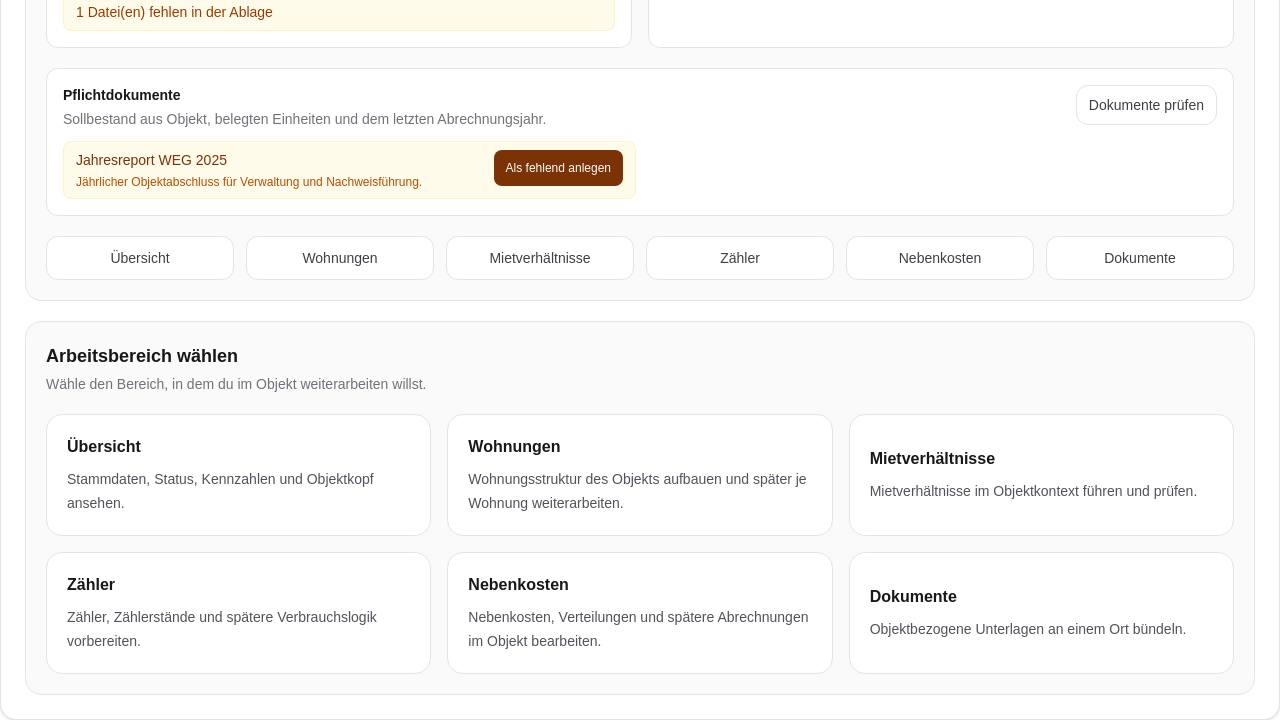
Test: ObjectDetail › links each apartment directly into its unit-specific document stock
(page scrolled)
What coordinates should you click on to do the following:
click the button named "Wohnungen Wohnungsstruktur des Objekts aufbauen und später je Wohnung weiterarbeiten."
I would click on:
 (640, 475)
Its box is left=447, top=414, right=833, bottom=536.
(page scrolled)
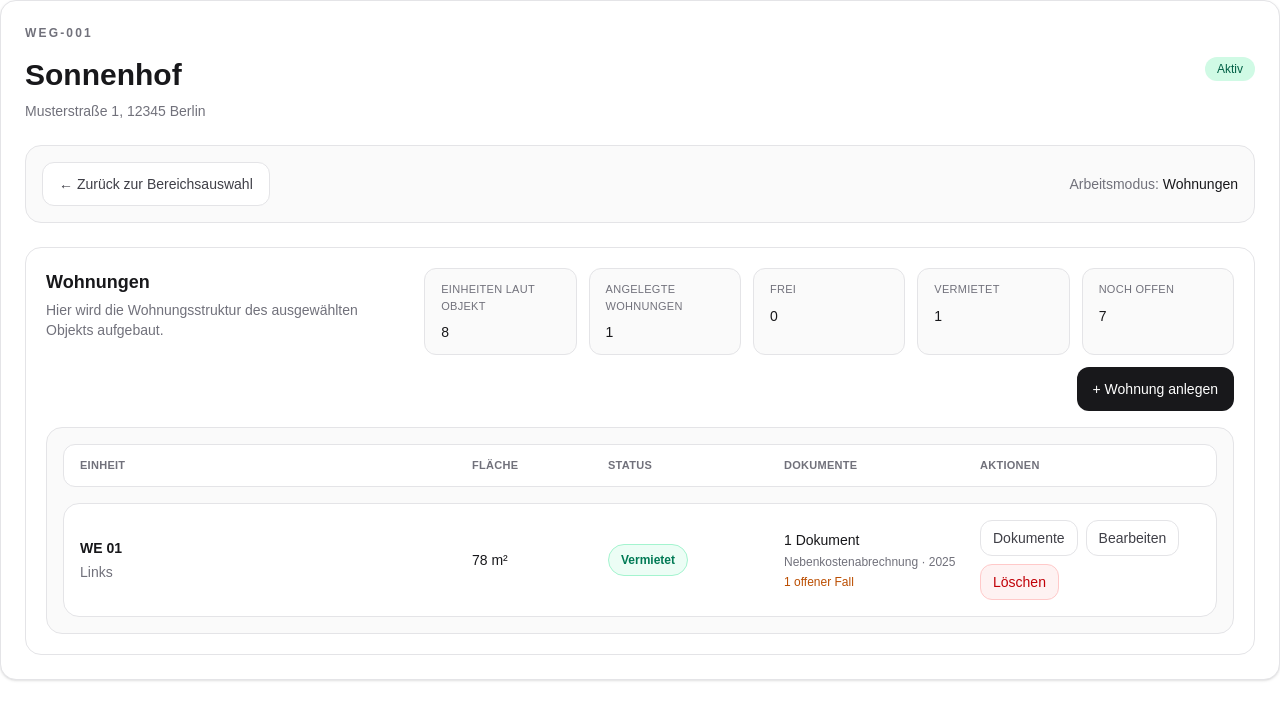
Check: the text "1 Dokument" is shown, box left=784, top=532, right=860, bottom=548
Check: the text "1 offener Fall" is shown, box left=784, top=574, right=854, bottom=588
Check: the text "Nebenkostenabrechnung · 2025" is shown, box left=784, top=554, right=964, bottom=570
